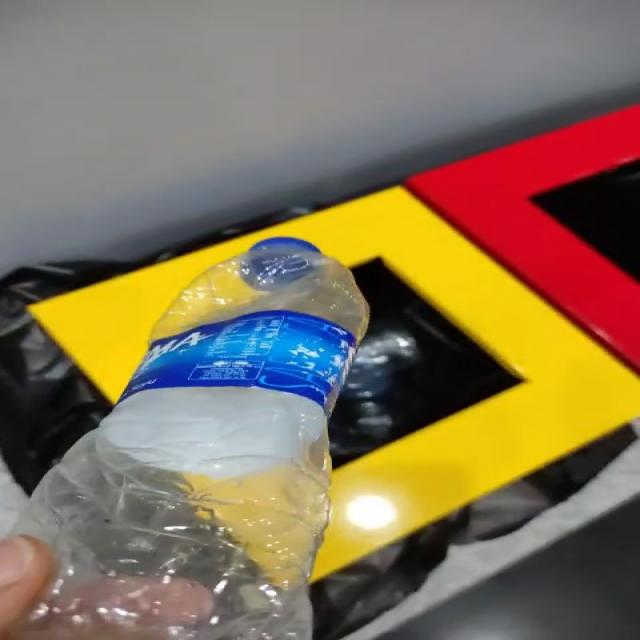plastic: (9, 237, 369, 640)
